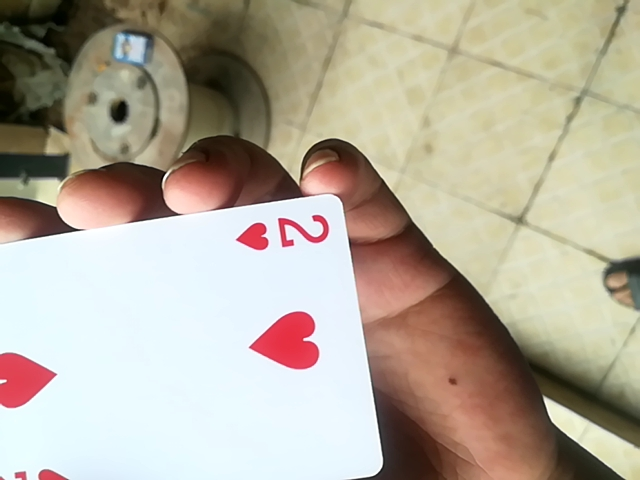hx 2: (5, 189, 375, 480)
